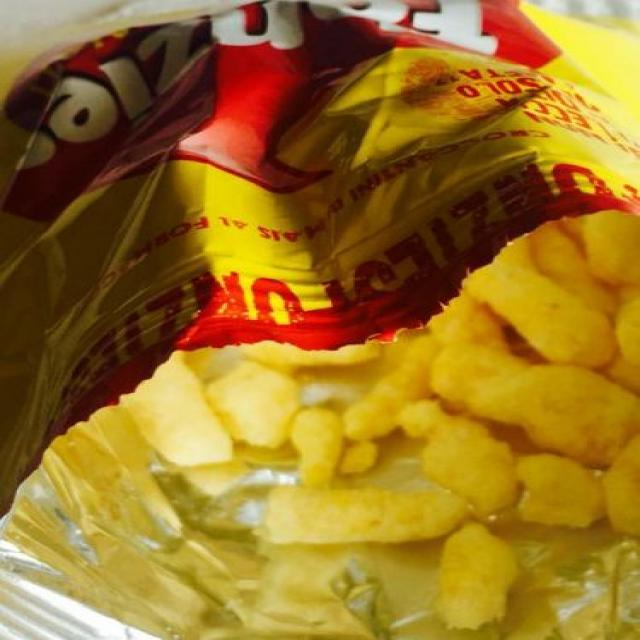Chips packaged: (414, 339, 640, 458), (256, 479, 483, 553), (425, 532, 525, 630), (277, 405, 364, 491)
